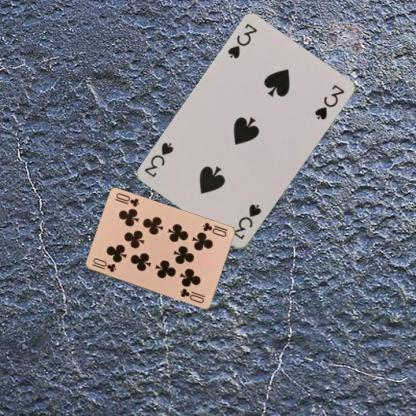10c: (200, 220, 228, 239), (89, 256, 117, 274)
3s: (225, 20, 259, 61), (229, 202, 263, 241)
